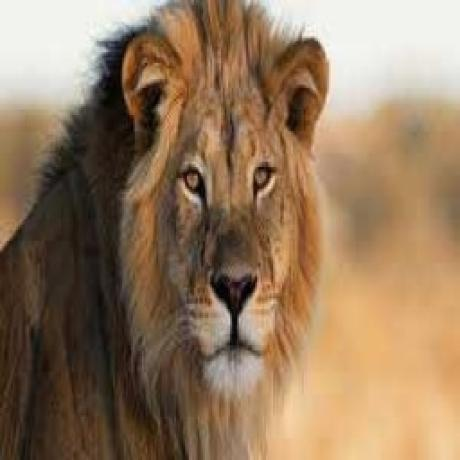Lion: (0, 0, 333, 460)
